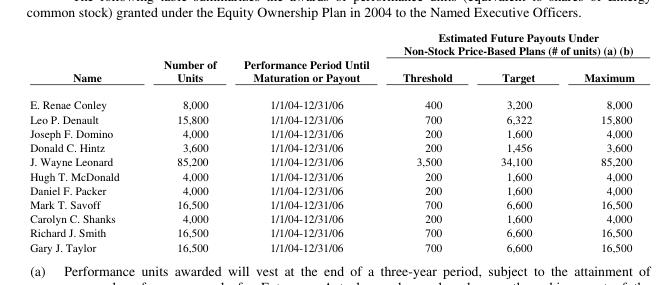table: (29, 29, 633, 253)
table column: (229, 29, 385, 253), (29, 29, 140, 253), (385, 29, 475, 253), (140, 29, 229, 253), (475, 29, 558, 253), (558, 29, 633, 253)
table column header: (29, 29, 633, 90)
table row: (29, 29, 633, 63), (29, 63, 633, 90), (29, 90, 633, 111), (29, 153, 633, 168), (29, 224, 633, 239), (29, 111, 633, 125), (29, 125, 633, 139), (29, 139, 633, 153), (29, 168, 633, 182), (29, 182, 633, 196), (29, 196, 633, 210), (29, 210, 633, 224), (29, 239, 633, 253)
table spanning cell: (229, 29, 385, 90), (385, 29, 633, 63), (29, 29, 140, 90), (140, 29, 229, 90)
